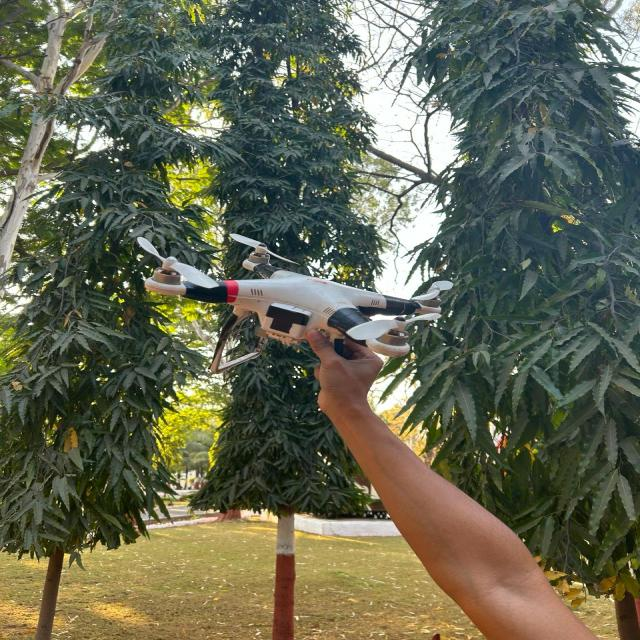drone: (116, 215, 504, 405)
